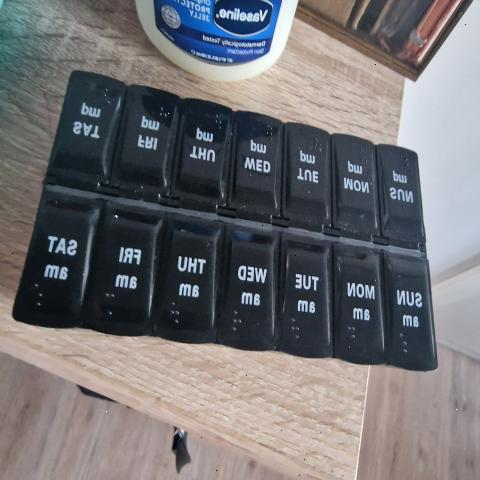PillBox: (7, 71, 458, 382)
